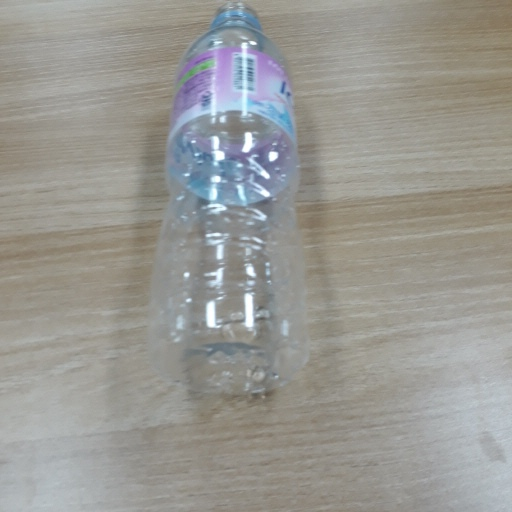Plastic_0: (150, 1, 311, 400)
